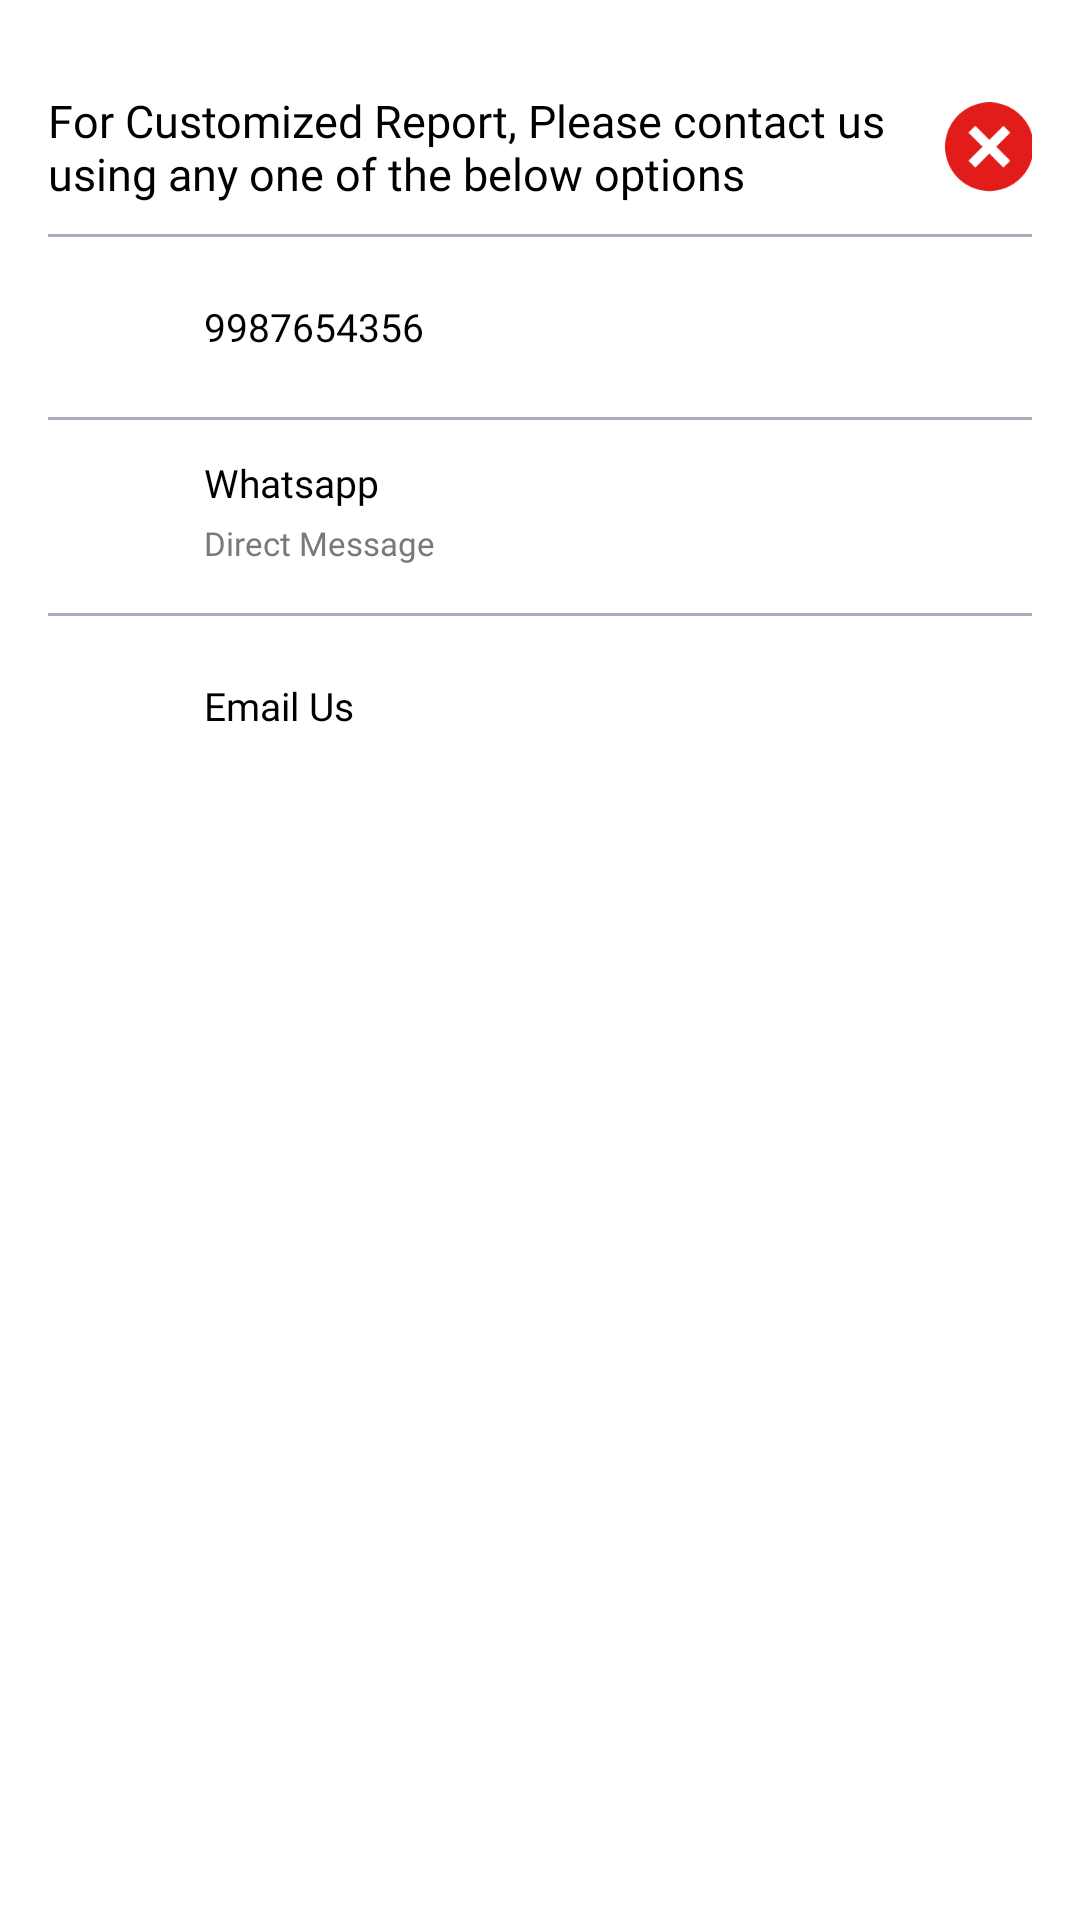

Where to tap for icons on this 1080 x 1920 app screen, as [x,y]:
cancel: [988,147]
